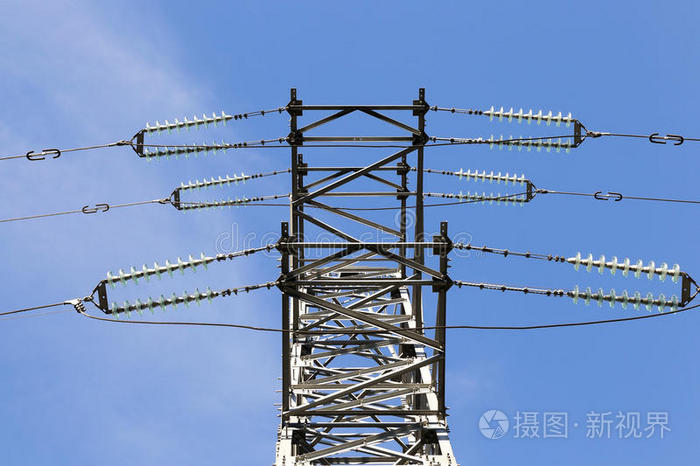insulator: (103, 250, 211, 291), (572, 251, 683, 285), (105, 288, 215, 321), (567, 288, 682, 316), (141, 139, 234, 163), (484, 102, 574, 126), (483, 131, 574, 154), (142, 111, 229, 132), (180, 171, 251, 193), (454, 168, 528, 187), (177, 194, 255, 212), (454, 191, 526, 208)
